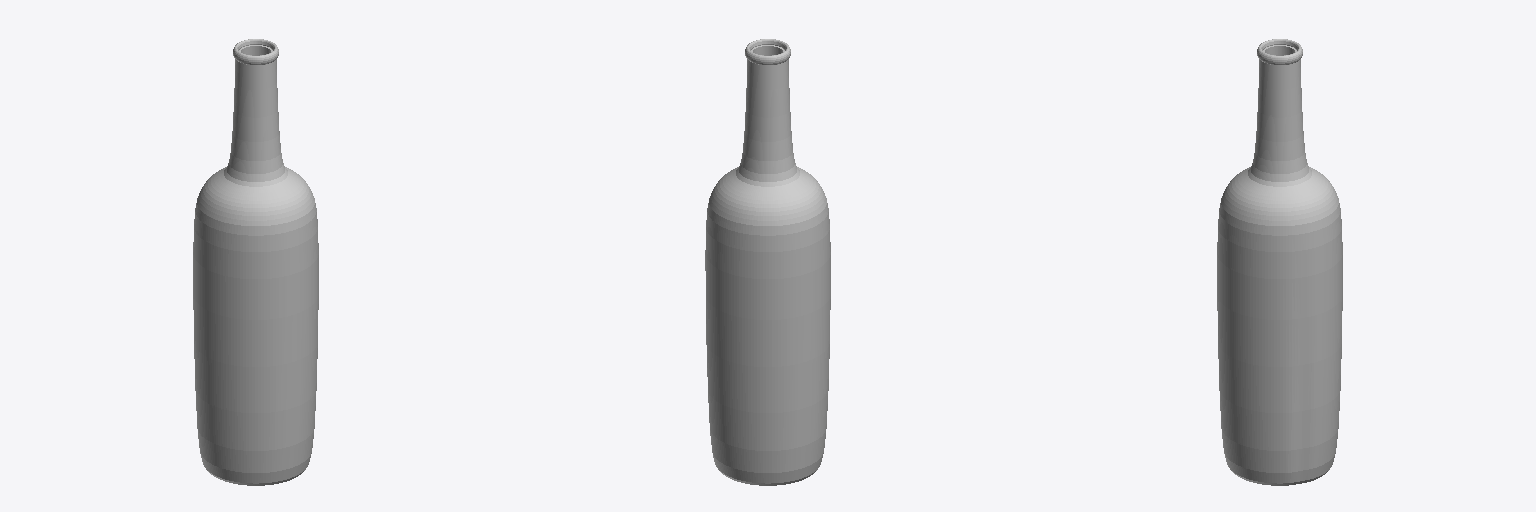
Rendered from bottlenotexture.obj.
3 renders of one model, left to right at view 1: azimuth 30°, elevation 25°; view 2: azimuth 150°, elevation 25°; view 3: azimuth 270°, elevation 25°, orthographic.
Parts seen in each view (by area): view 1: Cylinder.001_Cylinder.000; view 2: Cylinder.001_Cylinder.000; view 3: Cylinder.001_Cylinder.000.
Part boxes in pixels (left/top/right/bottom): Cylinder.001_Cylinder.000: left=193, top=39, right=318, bottom=485; Cylinder.001_Cylinder.000: left=705, top=39, right=830, bottom=485; Cylinder.001_Cylinder.000: left=1217, top=39, right=1342, bottom=485.
Bounding box in the file's own units: 1.93 × 7.07 × 1.93.